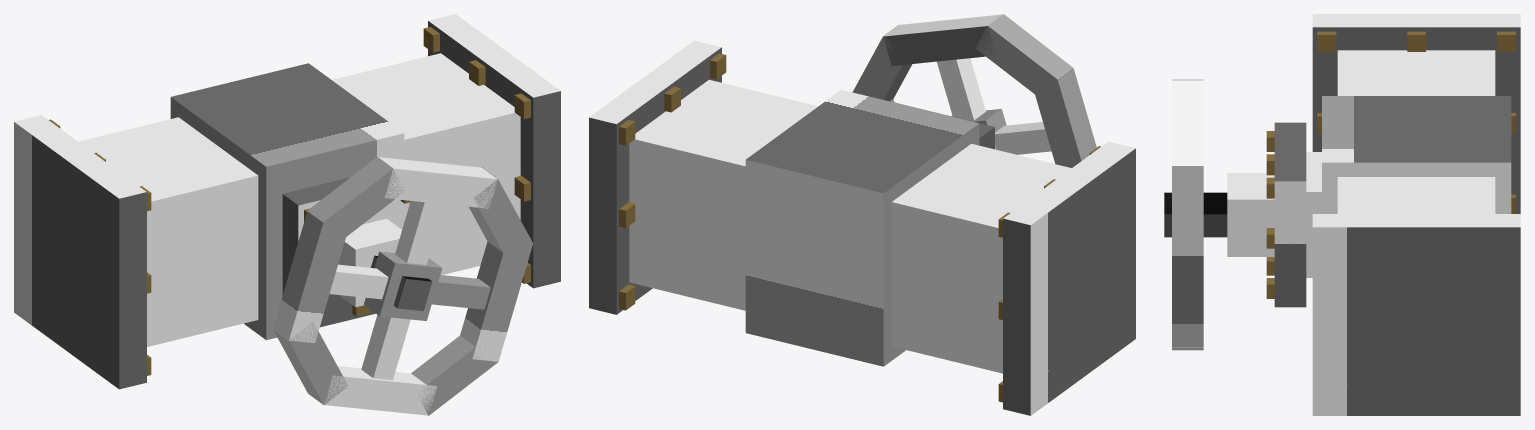
File: fluidpipe_inventory_valve.obj
The picture shows the model from 3 angles, left to right: view 1: azimuth 30°, elevation 25°; view 2: azimuth 150°, elevation 25°; view 3: azimuth 270°, elevation 25°; orthographic projection.
Size of the model in its own units: 1 by 0.5543 by 0.7063.
